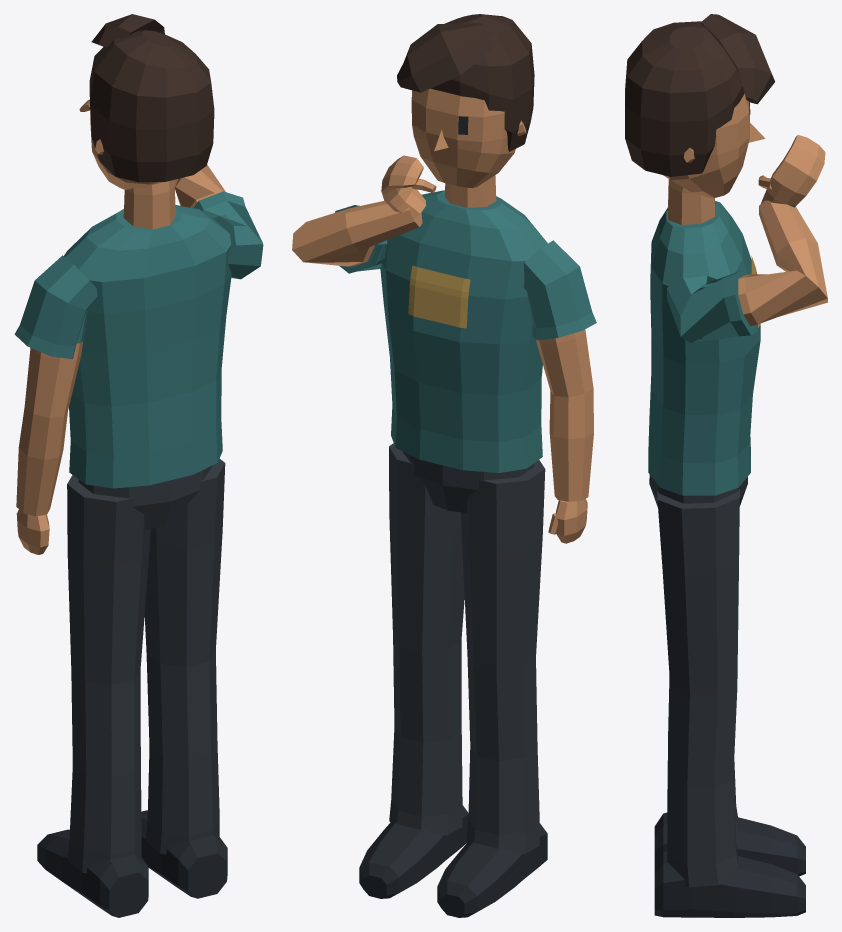
File: lwf_attendee_male_drinking_beer_v2.glb
3 renders of one model, left to right at view 1: azimuth 30°, elevation 25°; view 2: azimuth 150°, elevation 25°; view 3: azimuth 270°, elevation 25°, orthographic.
Visible parts, largest first — view 1: Attendee_male_drinking_beer_v6; view 2: Attendee_male_drinking_beer_v6; view 3: Attendee_male_drinking_beer_v6.
Boxes of the visible parts, box(x1,y1,x2,y2) form: Attendee_male_drinking_beer_v6: box(14, 14, 263, 917); Attendee_male_drinking_beer_v6: box(292, 14, 596, 917); Attendee_male_drinking_beer_v6: box(625, 14, 827, 917).
Bounding box in the file's own units: 0.5307 × 1.78 × 0.3773.
Materials: 1 (1 with a texture image).
